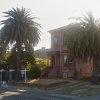Palm tree: (5, 6, 34, 86)
